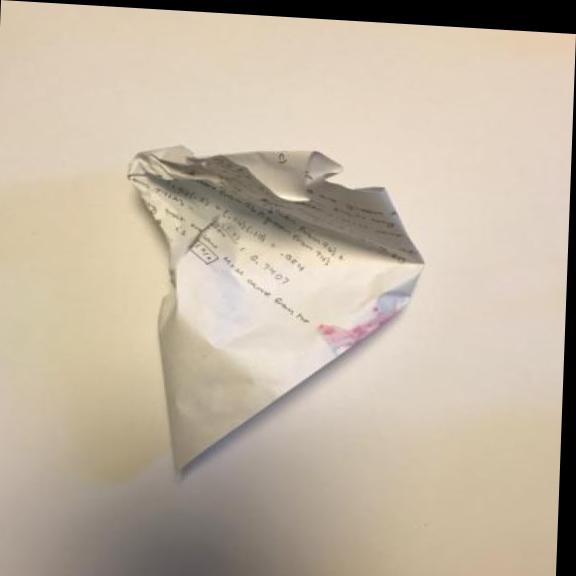Kertas: (114, 135, 449, 506)
